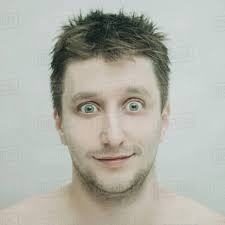white_male: (49, 30, 173, 195)
